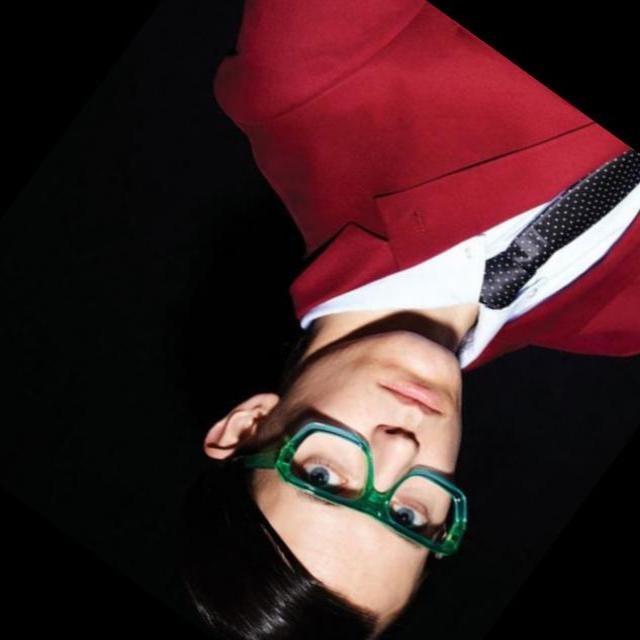glasses: (239, 376, 485, 594)
